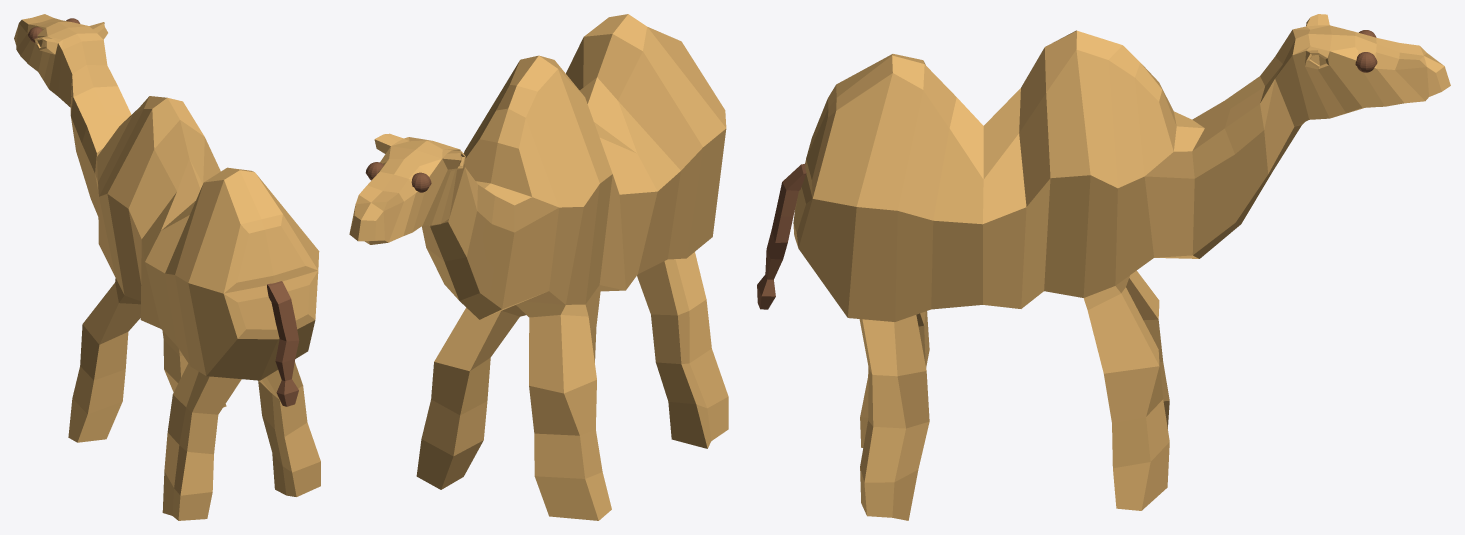
File: camelsmall.fbx
3 renders of one model, left to right at view 1: azimuth 30°, elevation 25°; view 2: azimuth 150°, elevation 25°; view 3: azimuth 270°, elevation 25°, orthographic. The views are drawn at different scales.
Parts seen in each view (by area): view 1: Sphere; view 2: Sphere; view 3: Sphere.
Part boxes in pixels (<box>): Sphere: <box>14,14,320,520</box>; Sphere: <box>349,14,728,520</box>; Sphere: <box>757,14,1450,520</box>.
Size of the model in its own units: 61.51 by 139 by 194.
